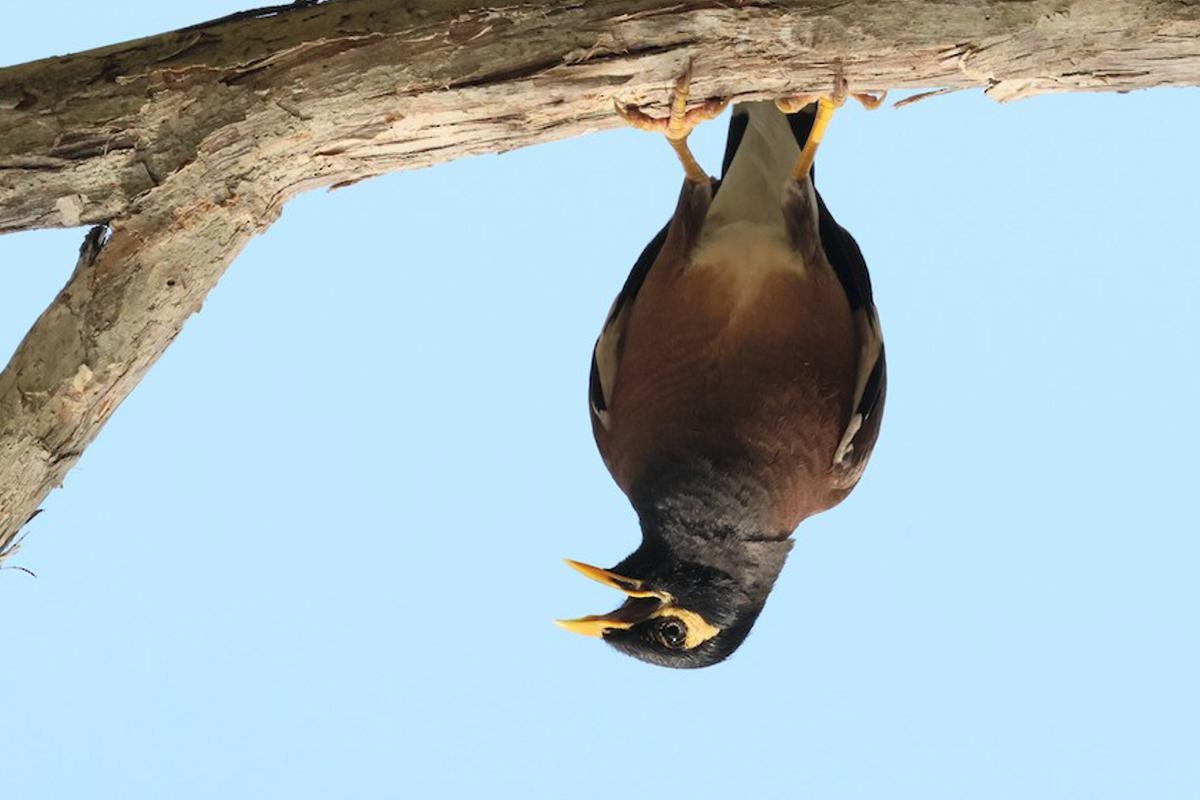myna: (529, 27, 886, 700)
